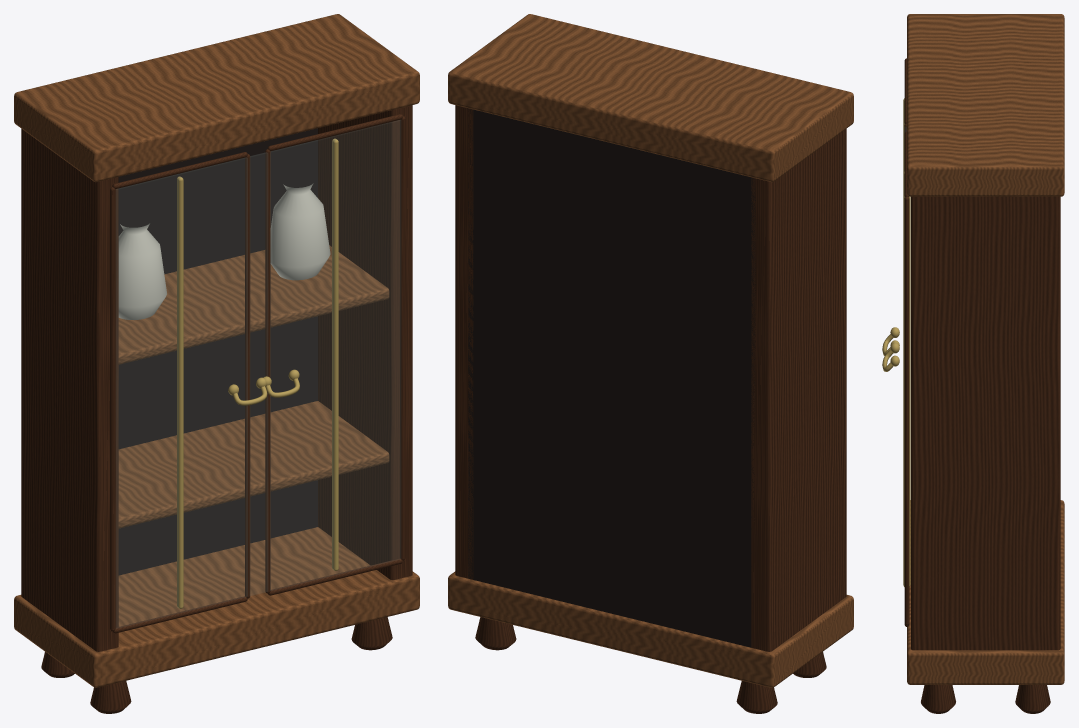
Rendered from cabinet.glb.
The picture shows the model from 3 angles, left to right: view 1: azimuth 30°, elevation 25°; view 2: azimuth 150°, elevation 25°; view 3: azimuth 270°, elevation 25°; orthographic projection. The views are drawn at different scales.
Visible parts, largest first — view 1: cabinet; view 2: cabinet; view 3: cabinet.
Boxes of the visible parts, x1,y1,x2,y2 form: cabinet: (14,14,419,713); cabinet: (448,14,853,713); cabinet: (882,14,1064,713).
Bounding box in the file's own units: 0.8 × 1.35 × 0.4.
Materials: 6 (2 with a texture image).
